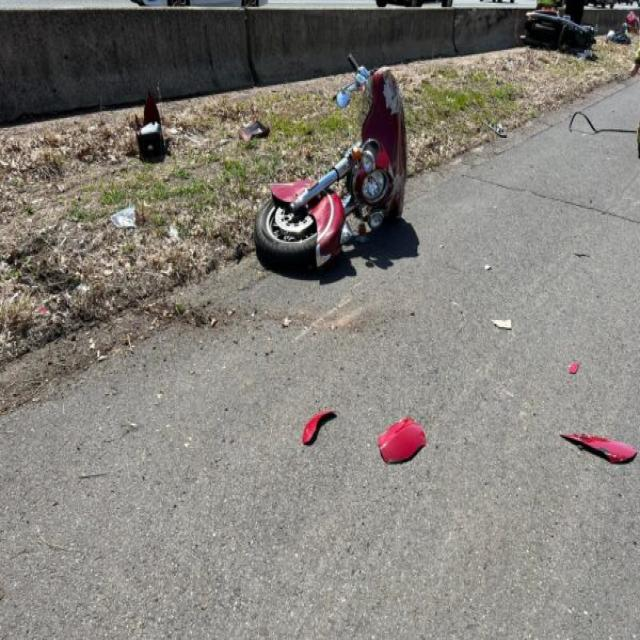accident: (255, 67, 406, 271)
